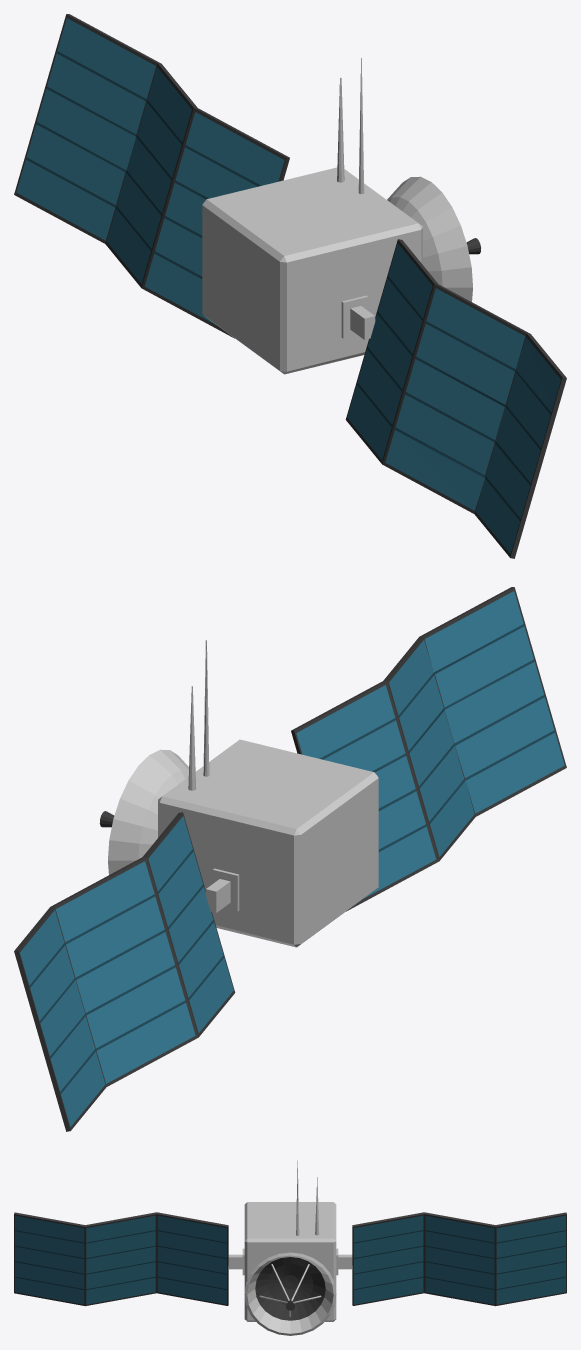
Rendered from smallSat.glb.
3 renders of one model, top to bottom at view 1: azimuth 30°, elevation 25°; view 2: azimuth 150°, elevation 25°; view 3: azimuth 270°, elevation 25°, orthographic. The views are drawn at different scales.
Visible parts, largest first — view 1: Satellite; view 2: Satellite; view 3: Satellite.
Boxes of the visible parts, <box> form: Satellite: <box>14,14,566,558</box>; Satellite: <box>14,587,566,1131</box>; Satellite: <box>14,1160,566,1335</box>.
Bounding box in the file's own units: 1.03 × 1.24 × 3.75.
Materials: 1 (1 with a texture image).
